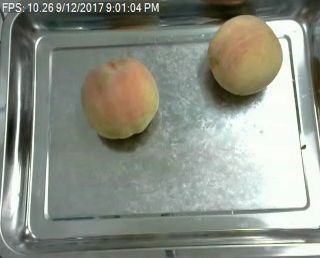Peach: (80, 57, 158, 140), (207, 14, 282, 96)
